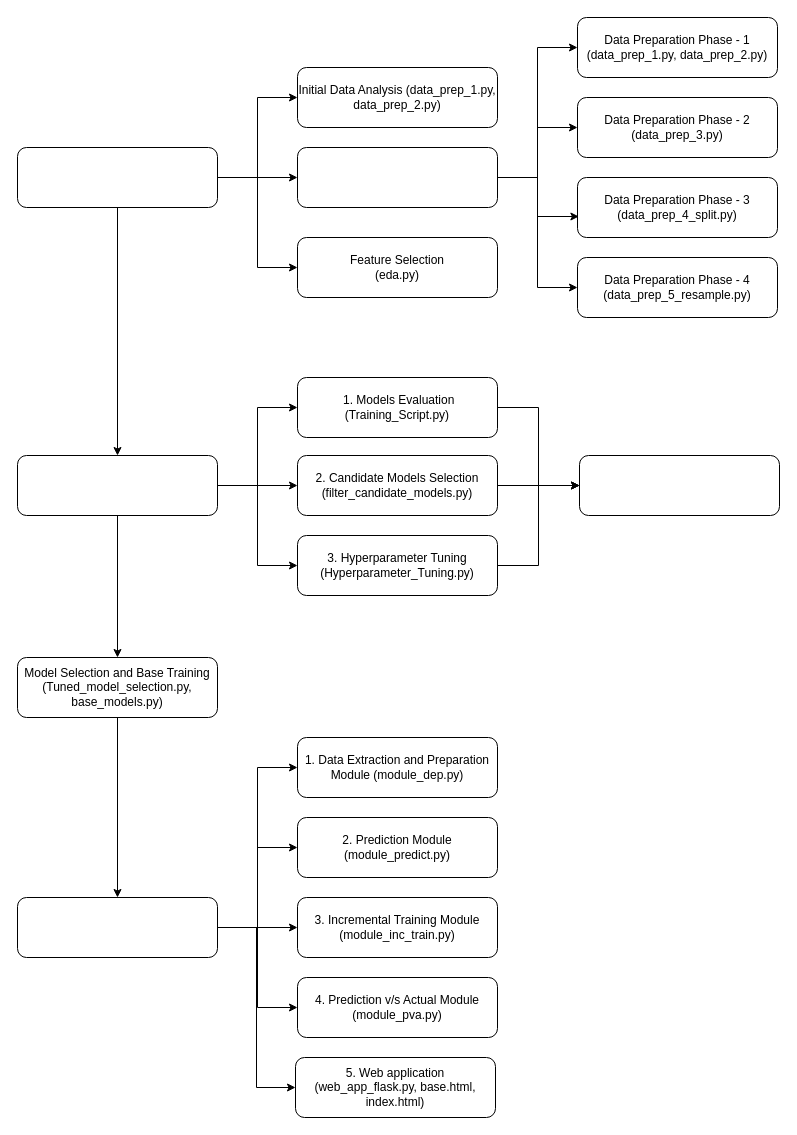
Some shapes in this 797 by 1135 pixel diagram are drawn without their labels. Here are the shapes that lost their labels. From the top down, the centre of each, then its label:
At (117,177): "Data Analysis and Preparation".
At (397,177): "Exploratory Data Analysis (eda.py)".
At (117,485): "Model Experiments".
At (679,485): "Base Model (SDC_f1_s_jlib.pkl)".
At (117,927): "Deployment Modules".
